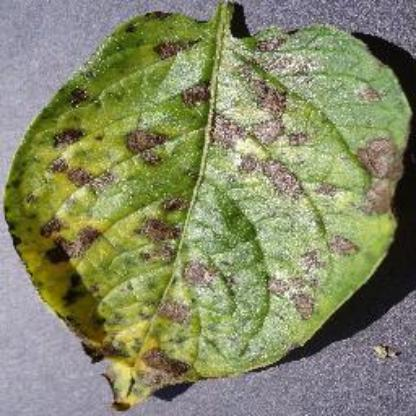Early-Blight: (3, 1, 415, 407)
